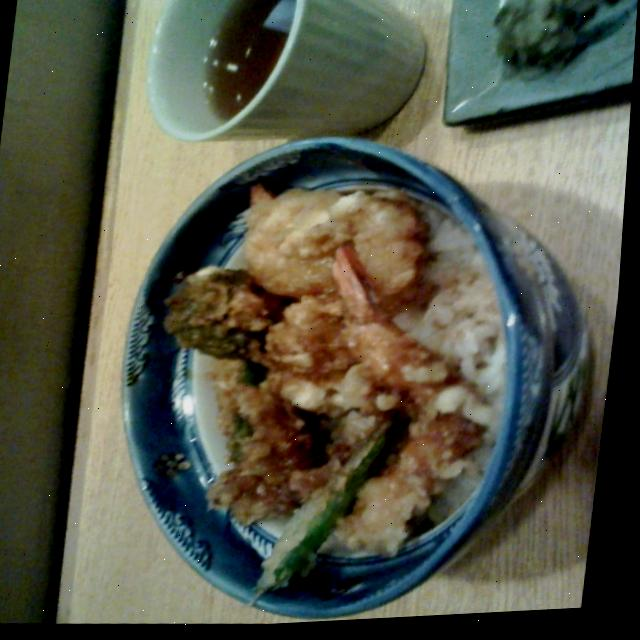蔬菜料理: (94, 132, 600, 630)
